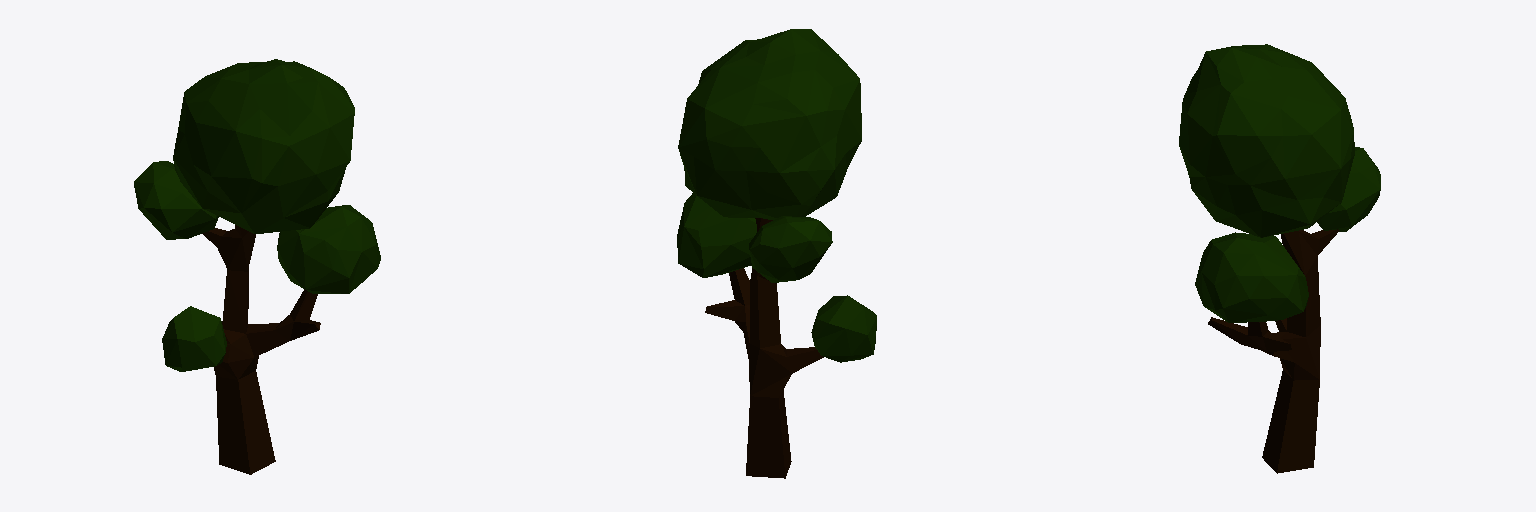
The model's file is tree_lvl_15.obj.
The picture shows the model from 3 angles: view 1: azimuth 30°, elevation 25°; view 2: azimuth 150°, elevation 25°; view 3: azimuth 270°, elevation 25°; orthographic projection.
Size of the model in its own units: 4.97 by 10.12 by 4.45.